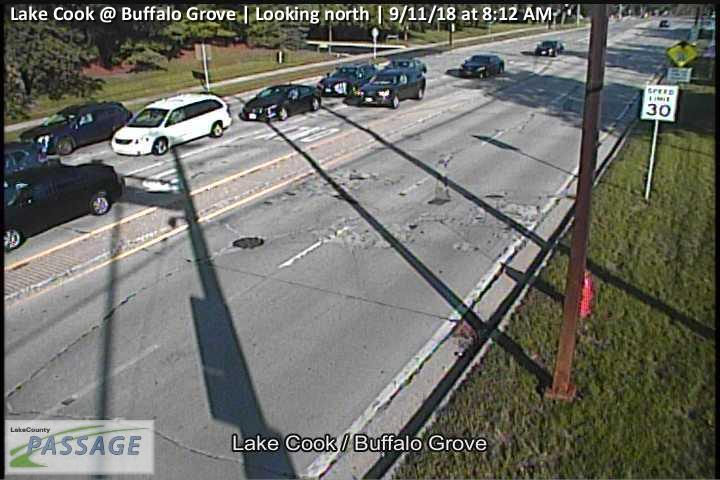SUV: (113, 93, 233, 156), (19, 101, 133, 156), (357, 67, 426, 109), (318, 64, 377, 98), (461, 55, 505, 79), (535, 40, 564, 56)
Sedan: (3, 161, 123, 249), (241, 84, 322, 120), (384, 57, 427, 77)
